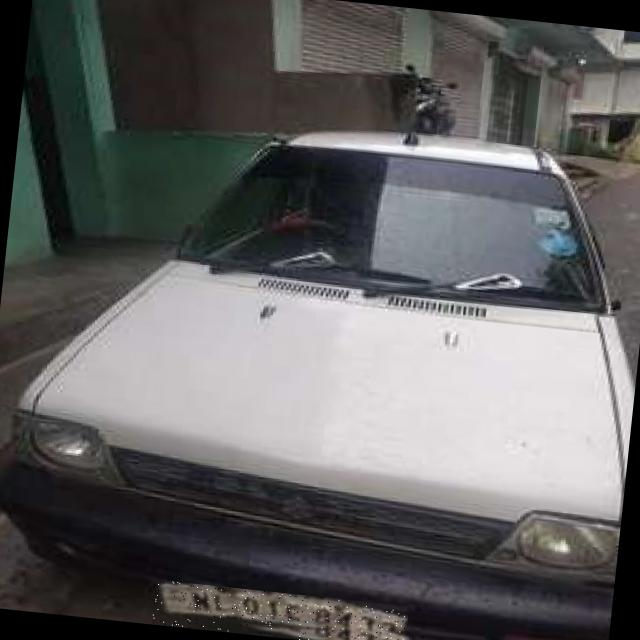Plate: (152, 580, 409, 640)
